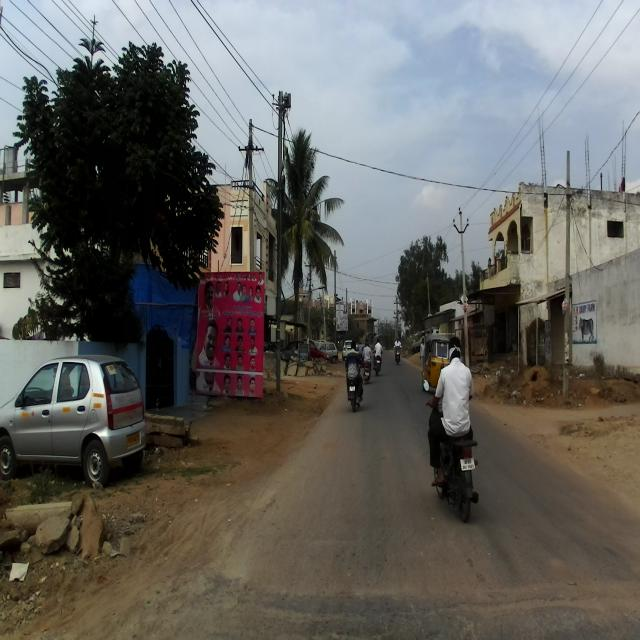car ahead at: (5, 358, 150, 482)
electric pole ahead at: (270, 87, 298, 396), (554, 151, 578, 406)
motorcycle ahead at: (440, 415, 484, 520)
